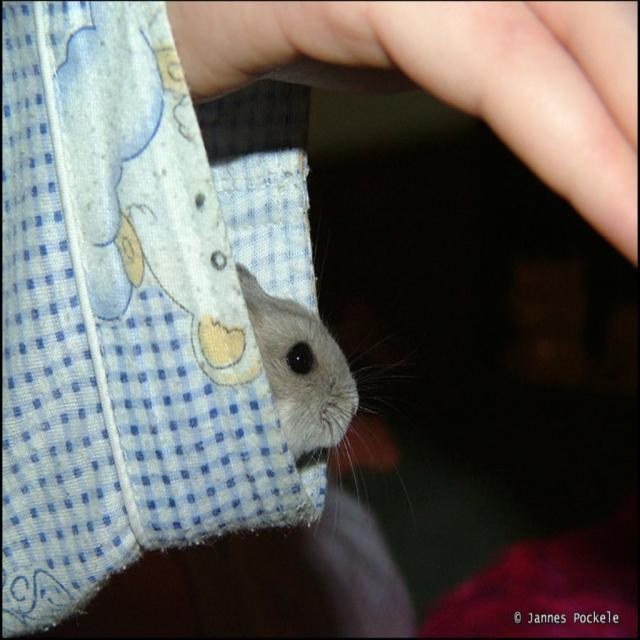rat: (238, 260, 358, 452)
